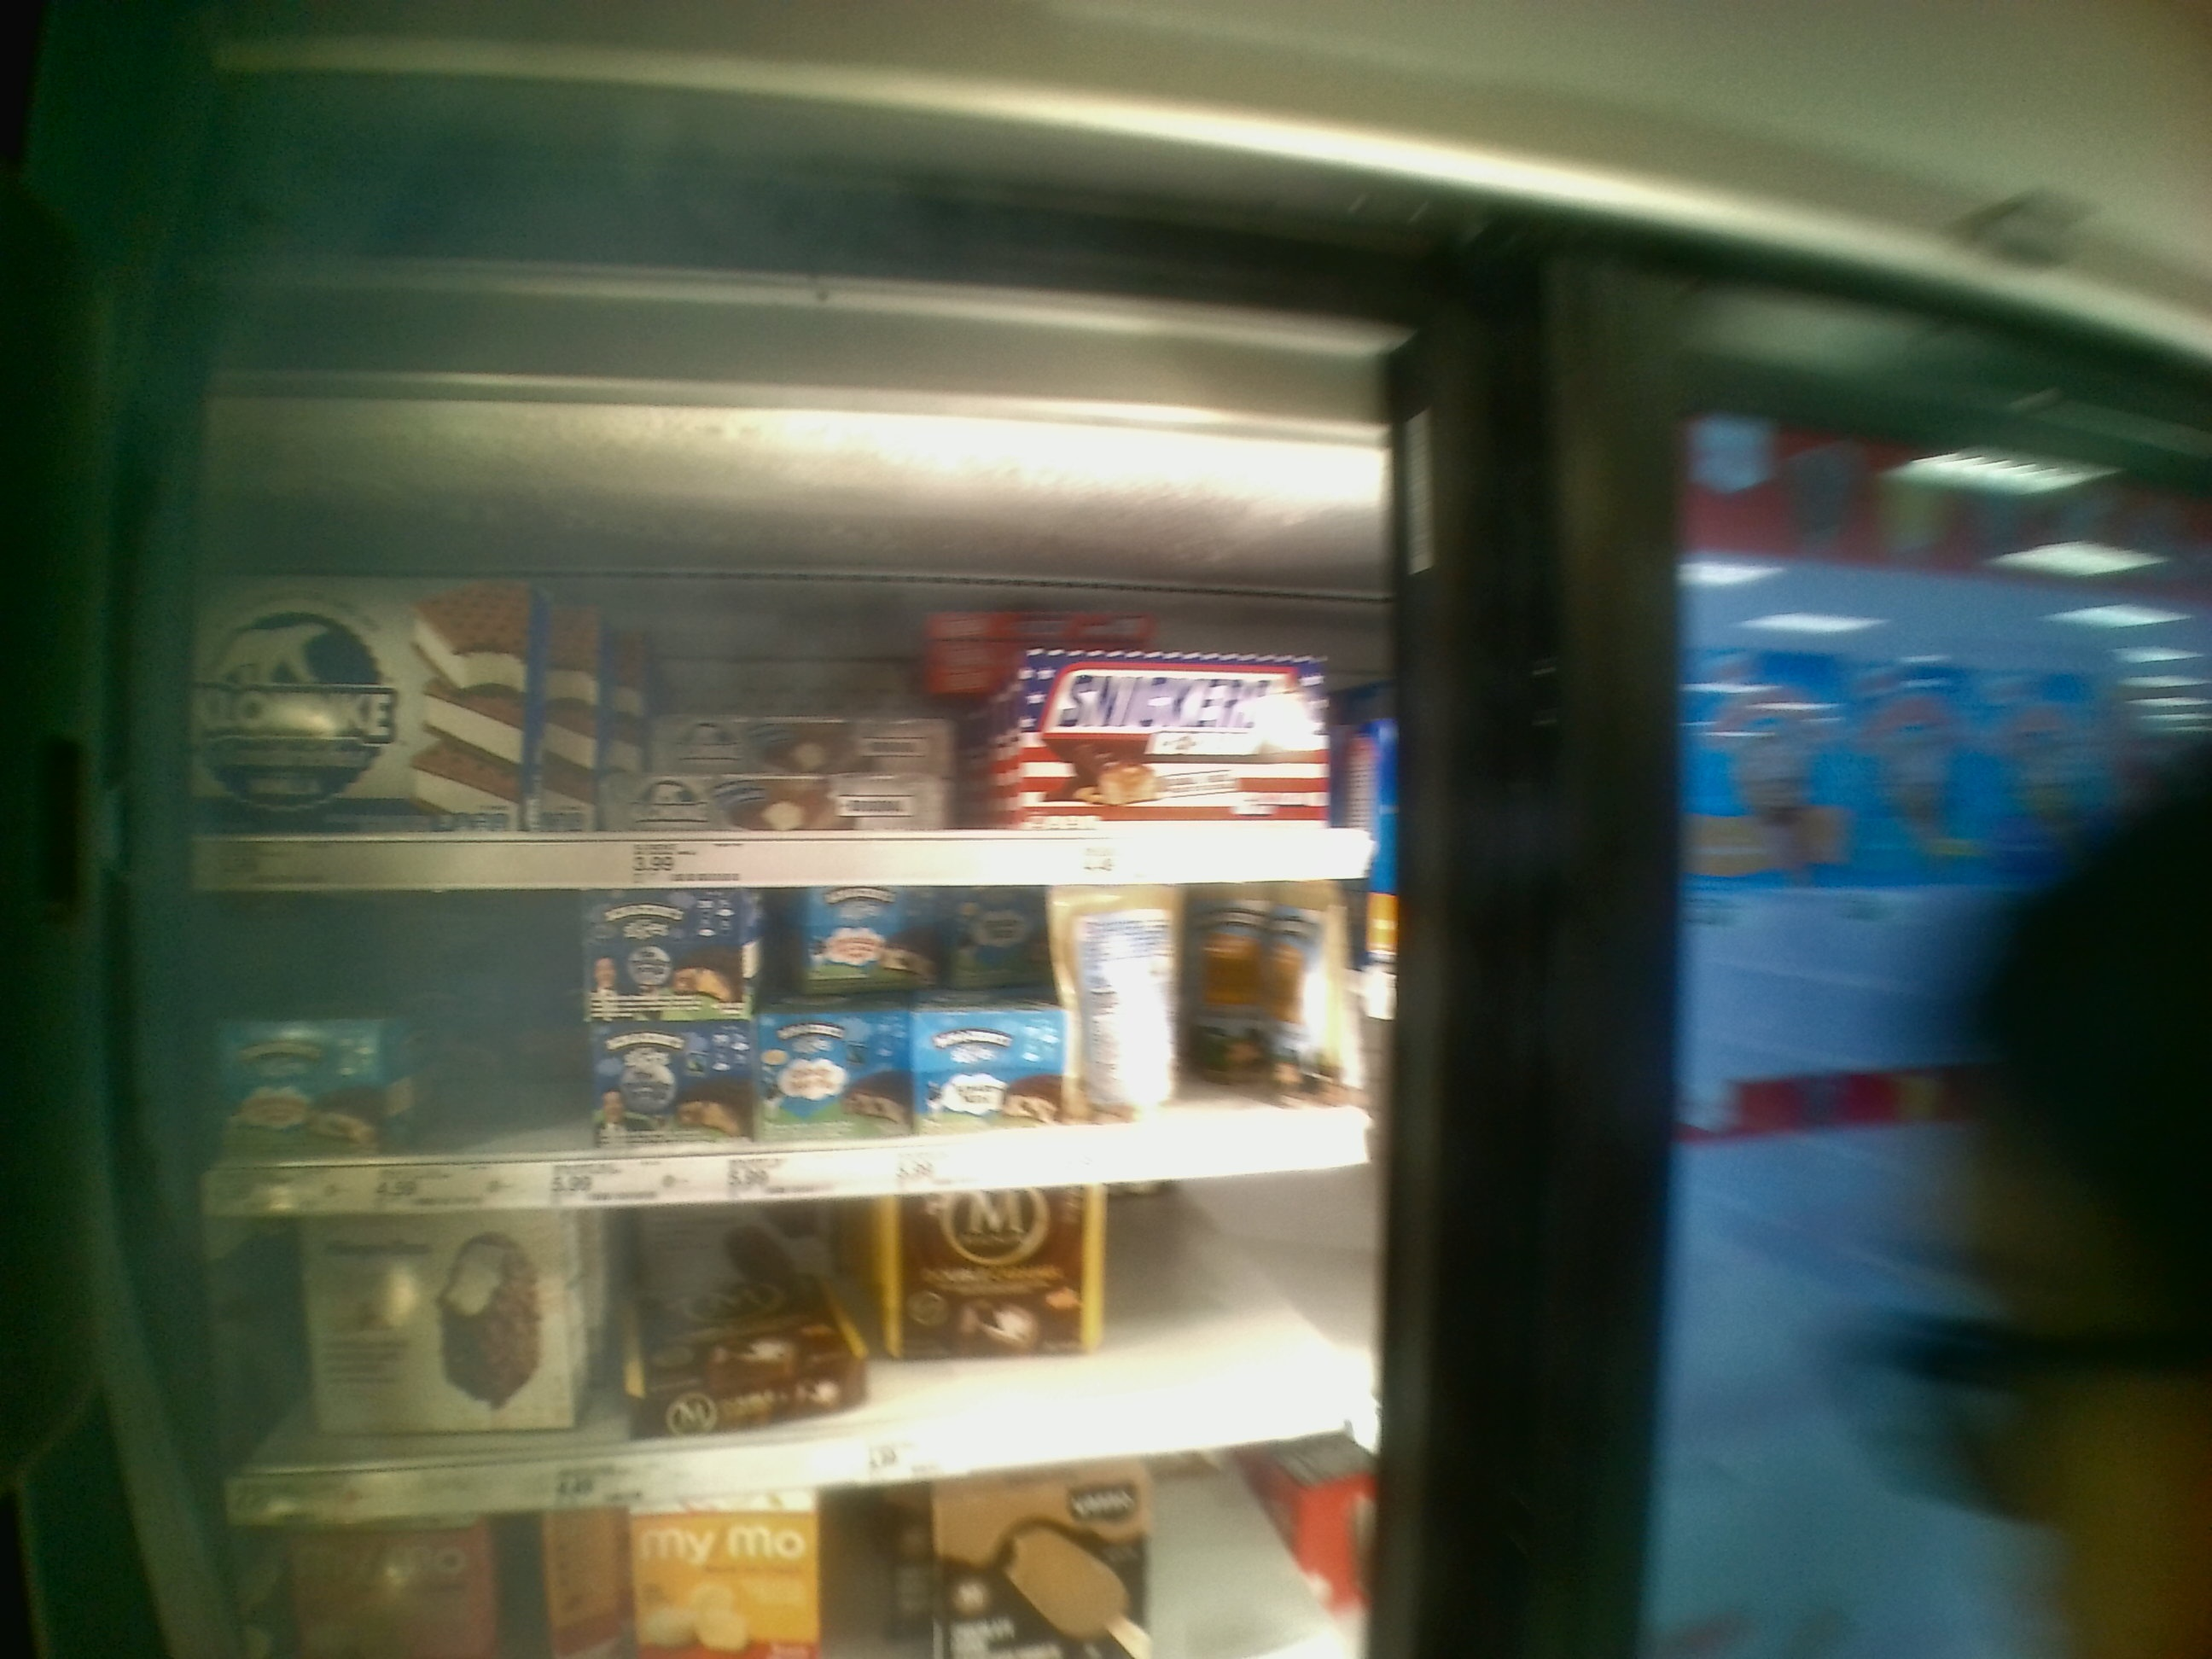ice-cream-shelf: (204, 486, 1385, 882), (204, 889, 1400, 1199)
